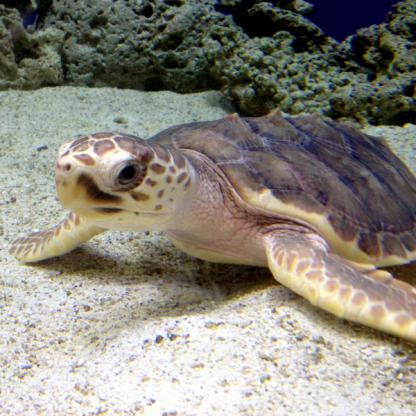turtle: (49, 125, 202, 236)
